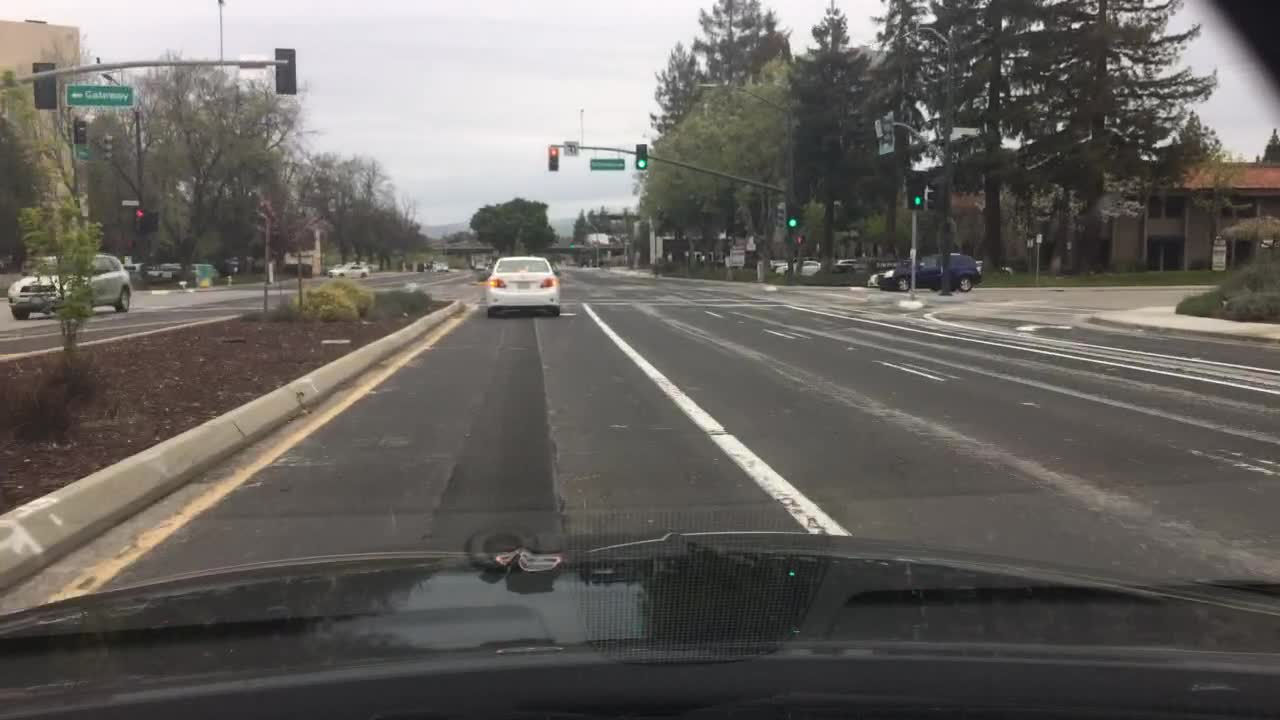car: (4, 251, 135, 315), (485, 256, 561, 315), (877, 250, 982, 290), (836, 255, 900, 270), (774, 259, 822, 277), (327, 262, 369, 279), (191, 264, 221, 281), (146, 262, 182, 275), (432, 260, 449, 273), (471, 259, 485, 272)
traffic light: (271, 48, 298, 95), (31, 63, 55, 108), (927, 176, 948, 213), (907, 170, 925, 208), (99, 131, 117, 163), (633, 141, 646, 167), (73, 121, 88, 143), (784, 204, 797, 226), (136, 208, 146, 234), (776, 202, 786, 228), (547, 146, 557, 170), (150, 210, 159, 233), (568, 238, 573, 248)
traffic sign: (66, 83, 135, 106), (588, 157, 624, 168), (74, 145, 91, 162), (563, 139, 579, 157), (119, 198, 140, 208)
